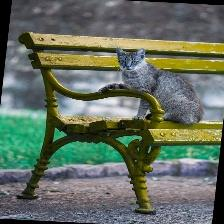kedo: (117, 48, 203, 123)
